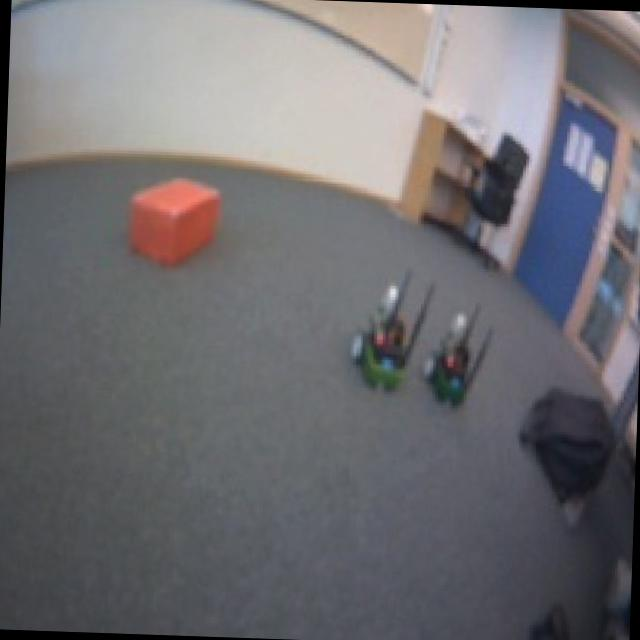robot: (345, 299, 415, 396), (418, 328, 478, 411)
target: (125, 170, 222, 266)
